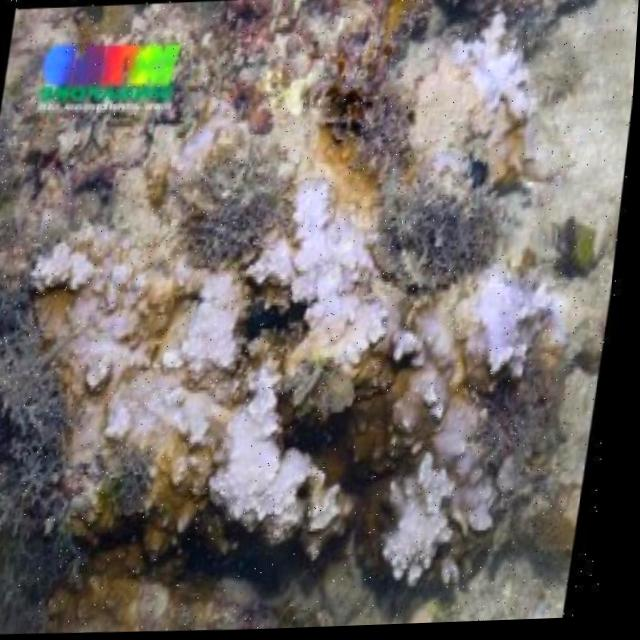Bleached Coral: (191, 144, 419, 553), (27, 172, 287, 476), (367, 240, 553, 595), (389, 0, 578, 184)
